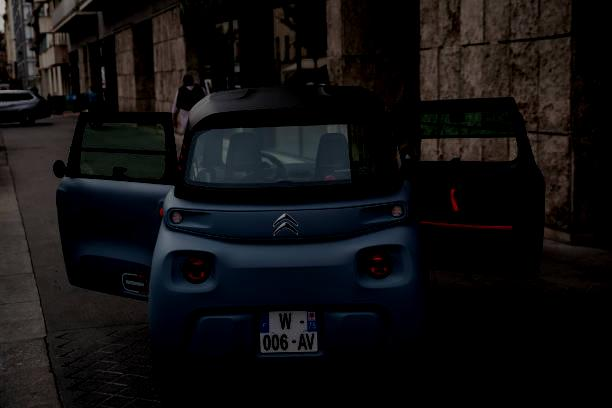Citroen: (262, 201, 312, 245)
